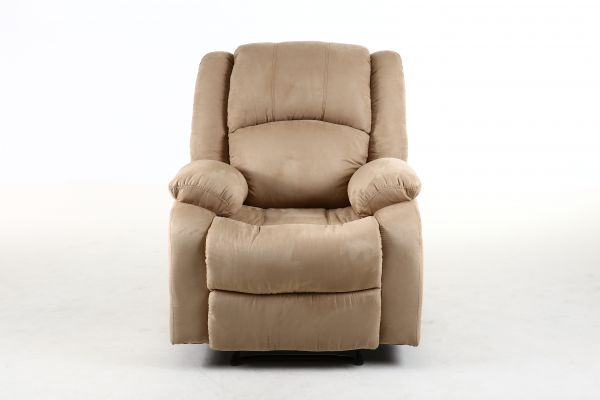chairs: (168, 39, 433, 370)
